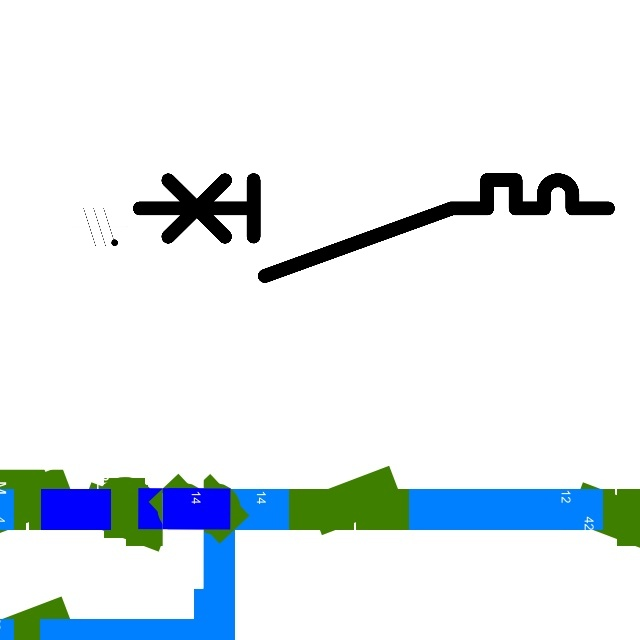interruptor_termomagnetico: (127, 168, 619, 288)
